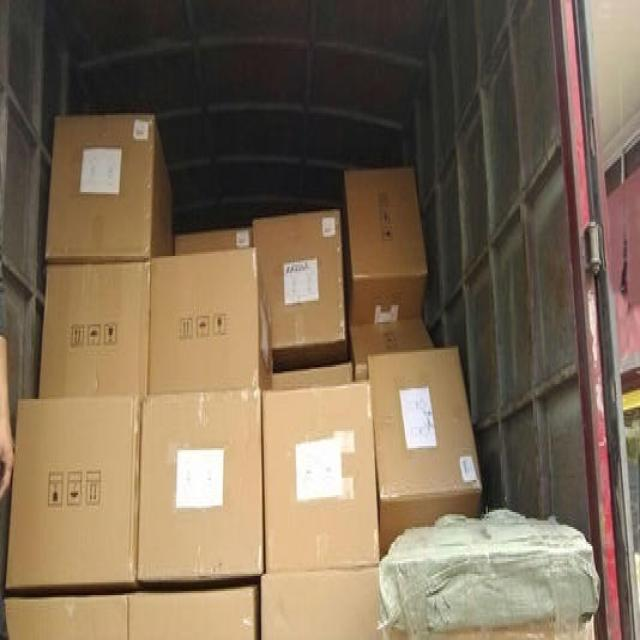box: (6, 396, 142, 587), (136, 388, 264, 582), (367, 345, 482, 560), (263, 380, 381, 571), (44, 115, 174, 263), (148, 247, 274, 395), (38, 261, 150, 397), (252, 209, 346, 369), (341, 169, 427, 324), (261, 567, 382, 638), (129, 586, 259, 637), (346, 317, 434, 380), (4, 595, 129, 638), (274, 363, 353, 391), (173, 228, 253, 252)
